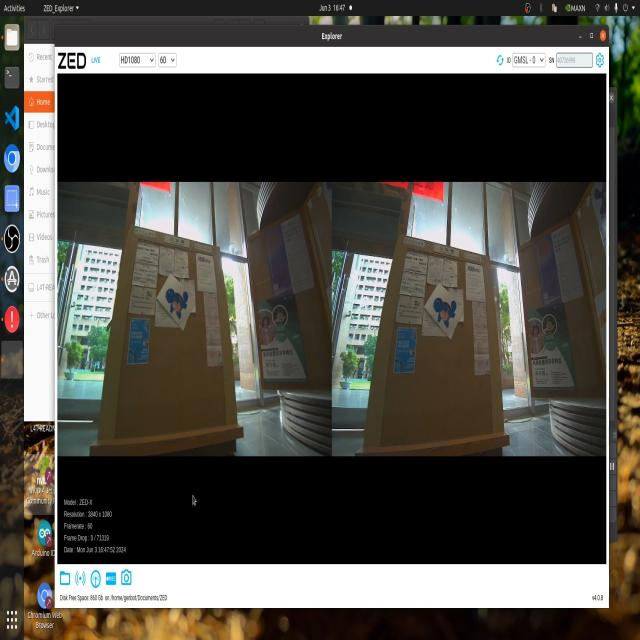blue: (166, 265, 191, 320), (428, 287, 456, 334)
